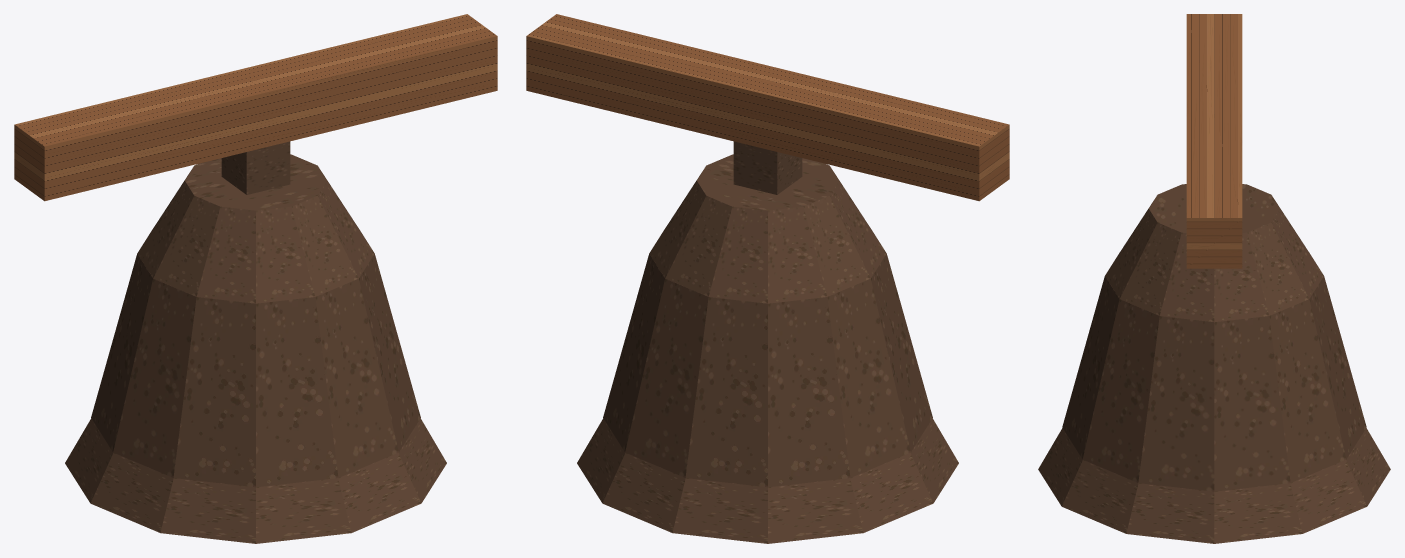
The model's file is bell.glb.
3 renders of one model, left to right at view 1: azimuth 30°, elevation 25°; view 2: azimuth 150°, elevation 25°; view 3: azimuth 270°, elevation 25°, orthographic. The views are drawn at different scales.
Visible parts, largest first — view 1: bell; view 2: bell; view 3: bell.
Boxes of the visible parts, x1,y1,x2,y2 form: bell: [14, 14, 497, 543]; bell: [526, 14, 1009, 543]; bell: [1038, 14, 1390, 543].
Size of the model in its own units: 2.6 by 2.1 by 1.9.
1 material, 1 textured.
